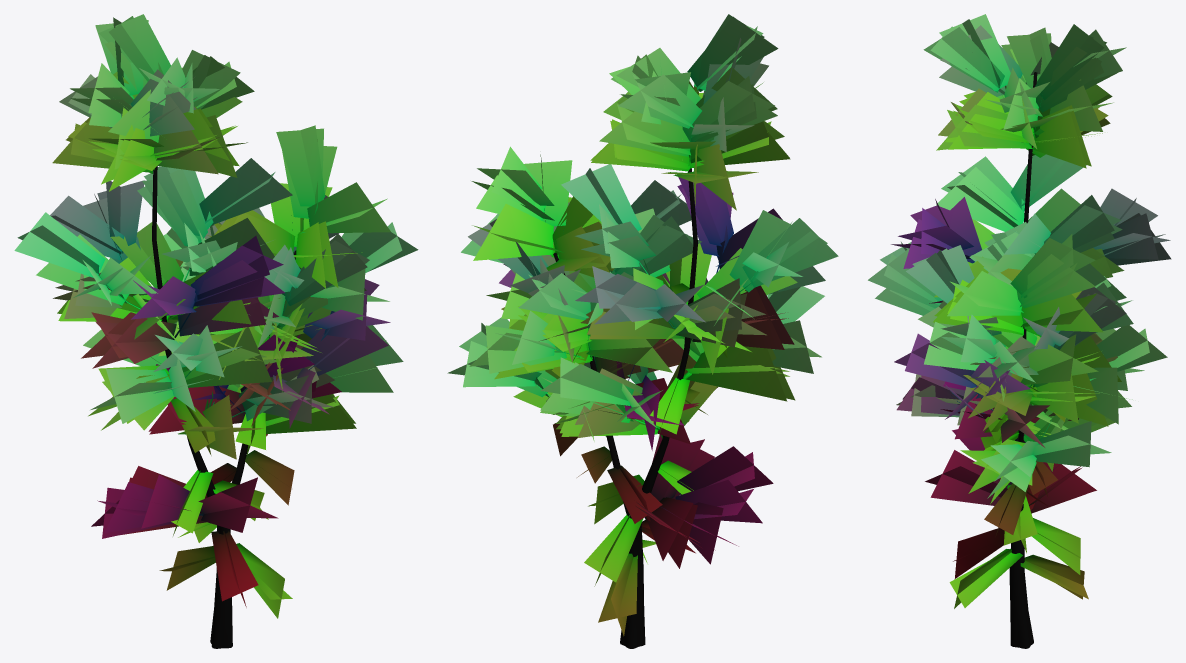
File: M_Realistic21_17.fbx
The picture shows the model from 3 angles, left to right: view 1: azimuth 30°, elevation 25°; view 2: azimuth 150°, elevation 25°; view 3: azimuth 270°, elevation 25°; orthographic projection. The views are drawn at different scales.
Visible parts, largest first — view 1: Tree_17; view 2: Tree_17; view 3: Tree_17.
Boxes of the visible parts, x1=… form: Tree_17: x1=14, y1=14, x2=418, y2=648; Tree_17: x1=447, y1=14, x2=838, y2=648; Tree_17: x1=868, y1=14, x2=1171, y2=648.
Size of the model in its own units: 1428 by 2374 by 1106.
